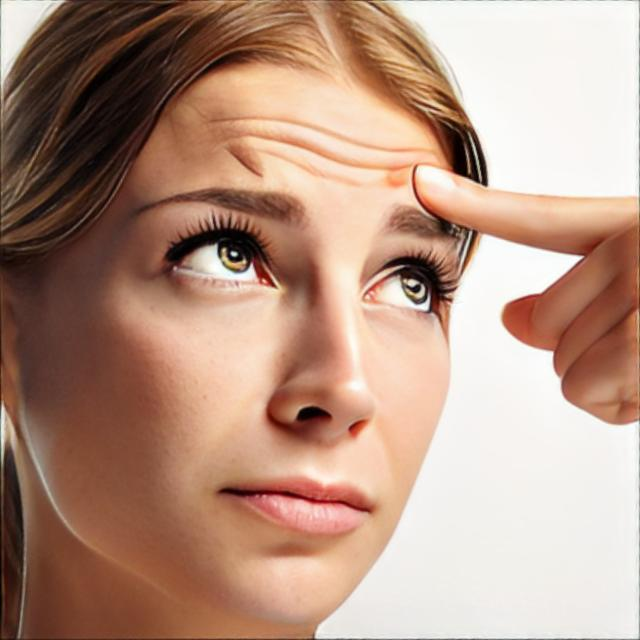sad: (0, 51, 467, 626)
